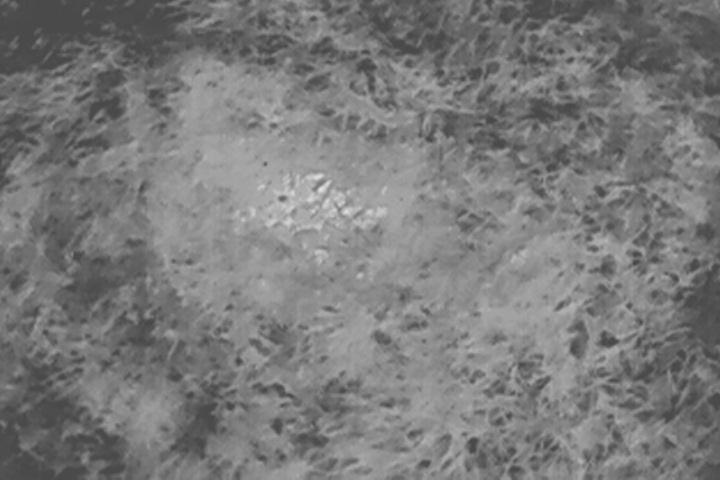landmine: (245, 169, 397, 267)
